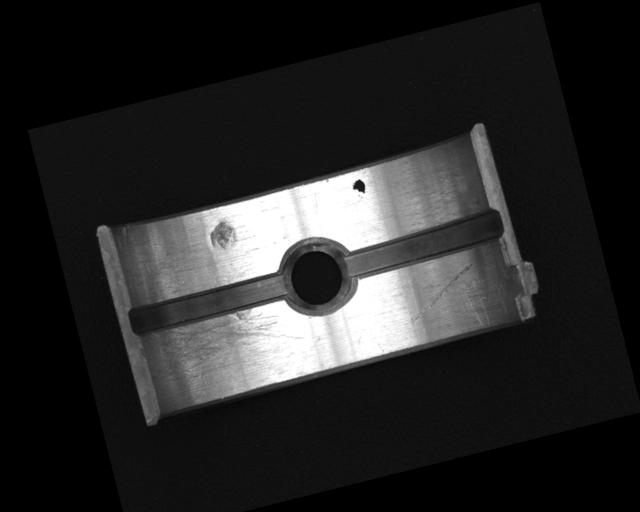blot: (350, 177, 368, 200)
bruise: (206, 217, 241, 252)
gap: (340, 204, 509, 281), (124, 267, 293, 341)
hole: (271, 229, 361, 323)
nick: (399, 261, 484, 325)
scratch: (146, 296, 311, 395)
